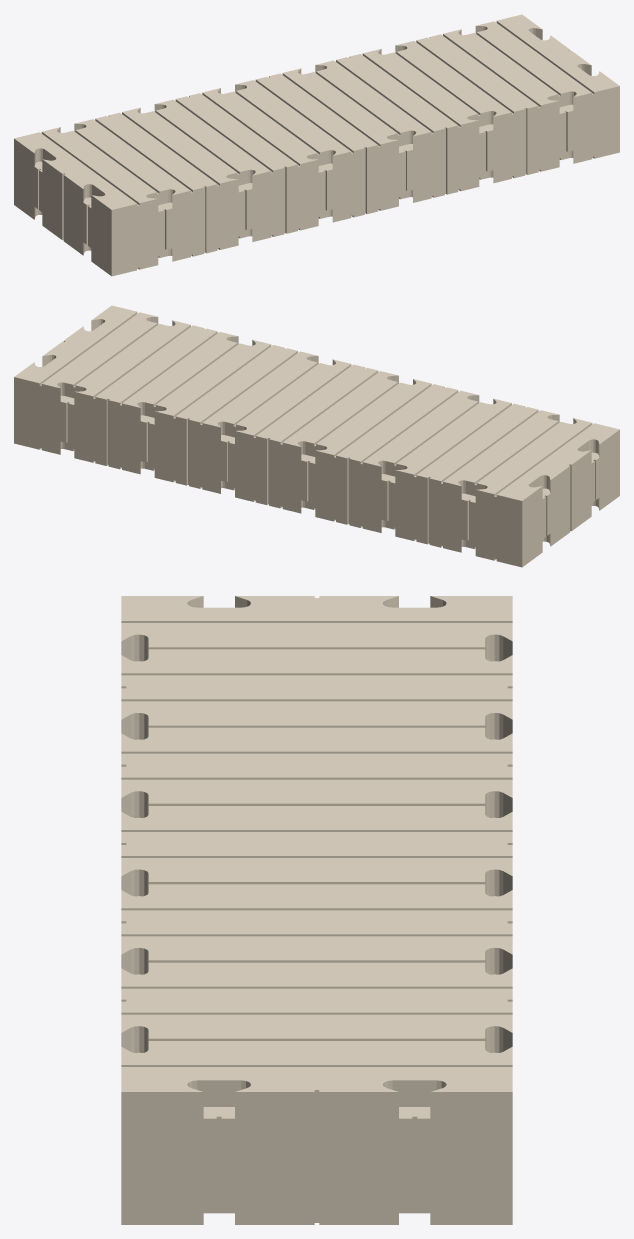
The model's file is ez_dock.dae.
3 renders of one model, top to bottom at view 1: azimuth 30°, elevation 25°; view 2: azimuth 150°, elevation 25°; view 3: azimuth 270°, elevation 25°, orthographic. The views are drawn at different scales.
Parts seen in each view (by area): view 1: ShapeIndexedFaceSet; view 2: ShapeIndexedFaceSet; view 3: ShapeIndexedFaceSet.
Part boxes in pixels (x1,y1,x2,y2): ShapeIndexedFaceSet: (14, 14, 619, 276); ShapeIndexedFaceSet: (14, 305, 619, 567); ShapeIndexedFaceSet: (121, 596, 512, 1224).
Bounding box in the file's own units: 3.05 × 1.02 × 0.381.
